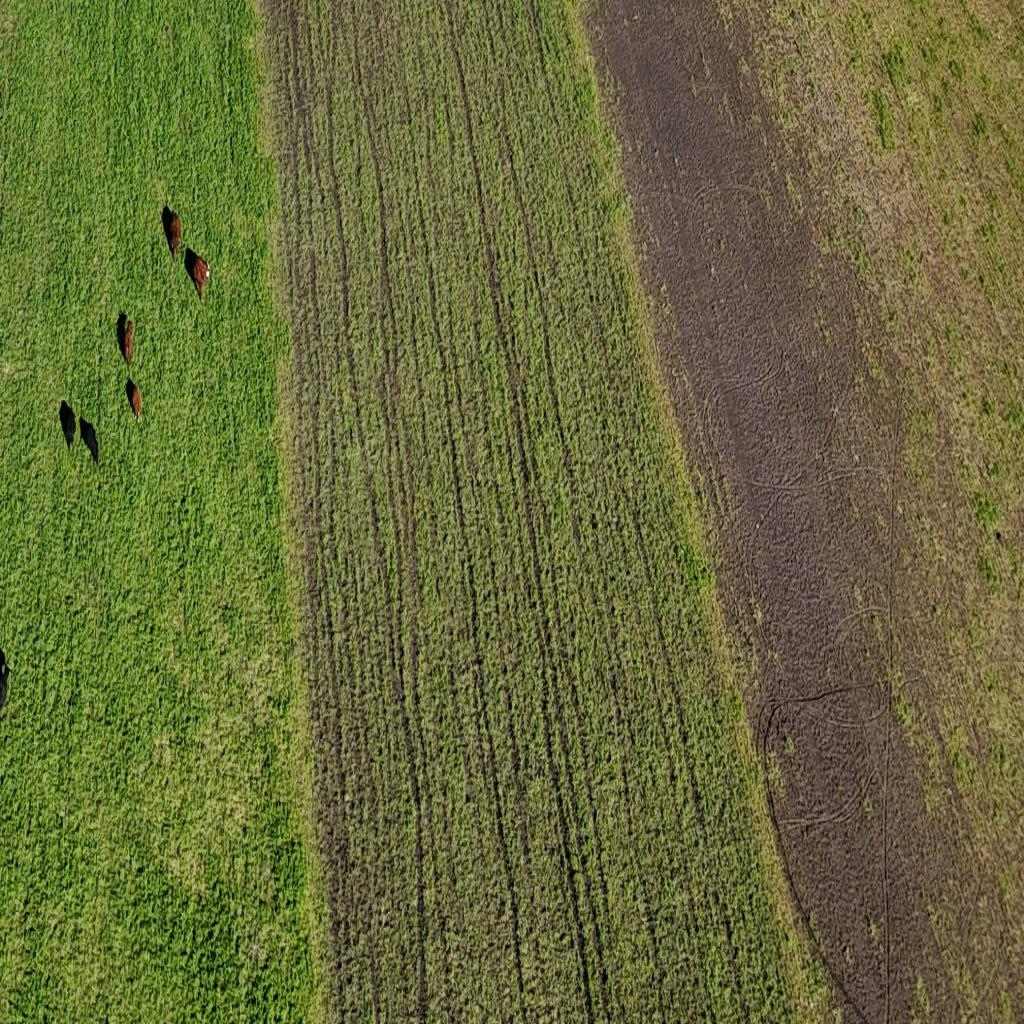cow: (59, 400, 76, 451), (192, 253, 210, 299), (82, 420, 97, 467), (168, 209, 182, 258), (130, 382, 142, 421), (124, 318, 134, 364)
